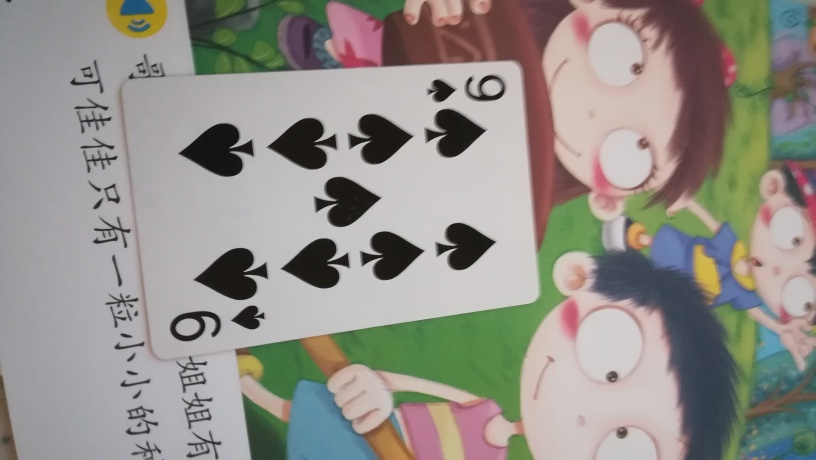ht 9: (116, 59, 542, 362)
